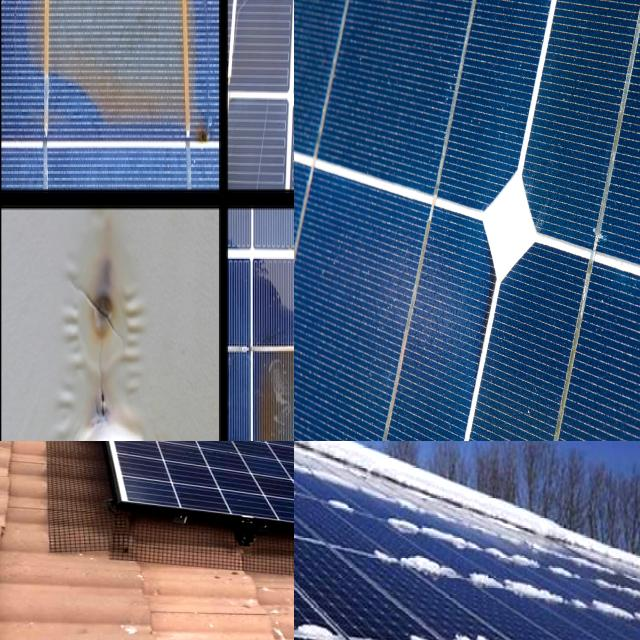crack: (294, 0, 640, 441), (80, 441, 294, 579), (51, 441, 294, 517), (44, 441, 294, 493), (40, 441, 294, 488)
panel: (385, 552, 640, 615), (323, 472, 470, 532), (294, 566, 362, 640), (294, 441, 401, 483), (448, 610, 548, 640), (294, 602, 345, 640), (294, 478, 335, 519), (294, 441, 340, 469), (565, 624, 640, 640), (294, 505, 325, 541), (414, 624, 436, 640)
shadow: (23, 0, 214, 166), (0, 206, 53, 441), (76, 256, 134, 374), (0, 0, 42, 159)
